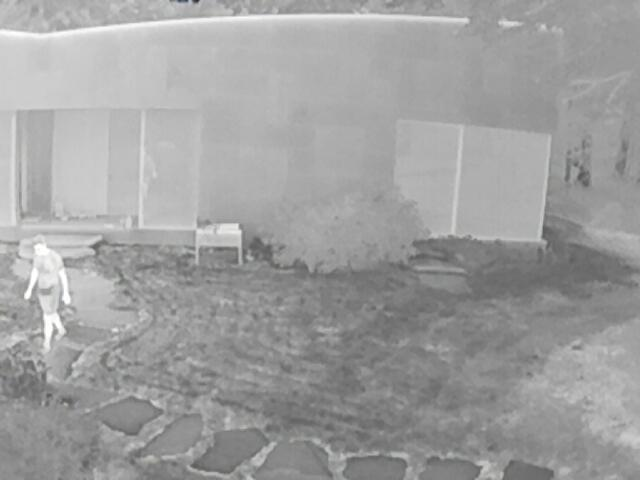person: (21, 234, 72, 354)
